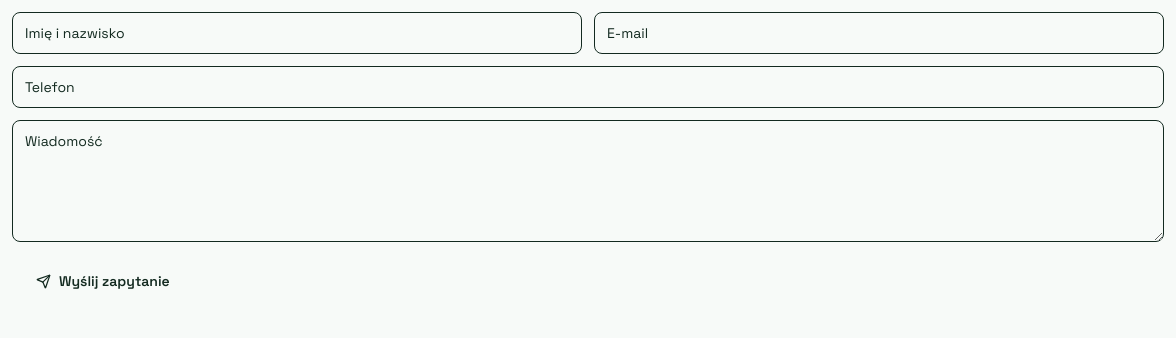
Test: błędy › komunikat z odpowiedzi API pokazuje się gościowi
In the field labelled "Imię i nazwisko": (297, 33) top-left (12, 12), bottom-right (582, 54), type "Anna Kowalska"
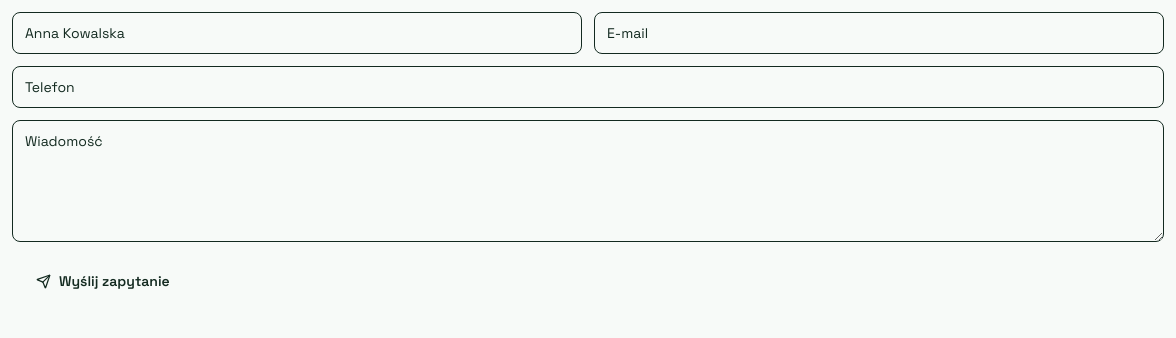
In the field labelled "E-mail": (879, 33) top-left (594, 12), bottom-right (1164, 54), type "anna@example.com"
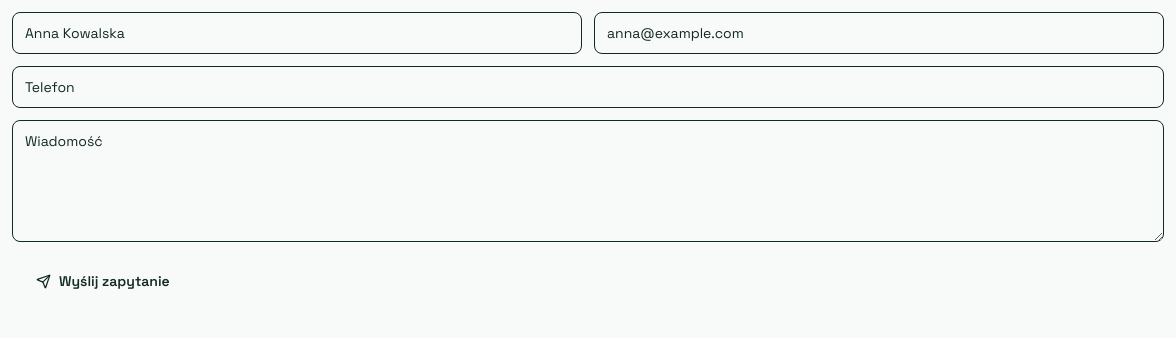
In the text box labelled "Wiadomość": (588, 181) top-left (12, 120), bottom-right (1164, 242), type "Czy jest wolny pokój w sierpniu?"
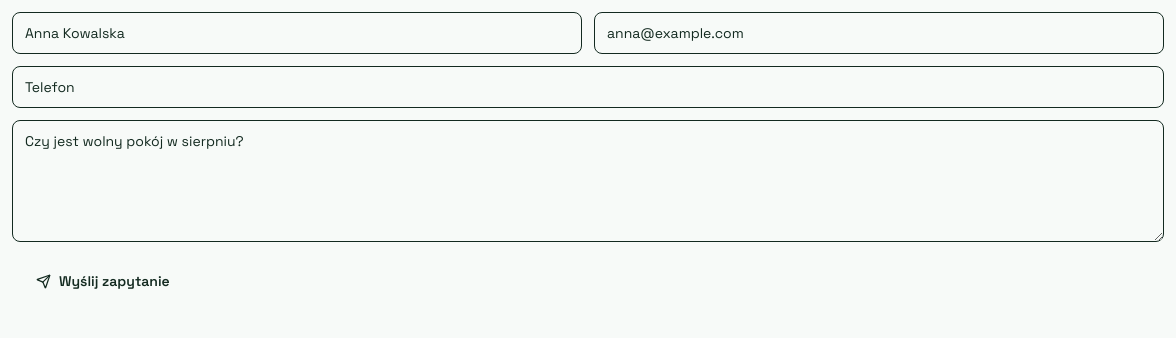
Click the button "Wyślij zapytanie": (103, 281) top-left (12, 261), bottom-right (194, 301)
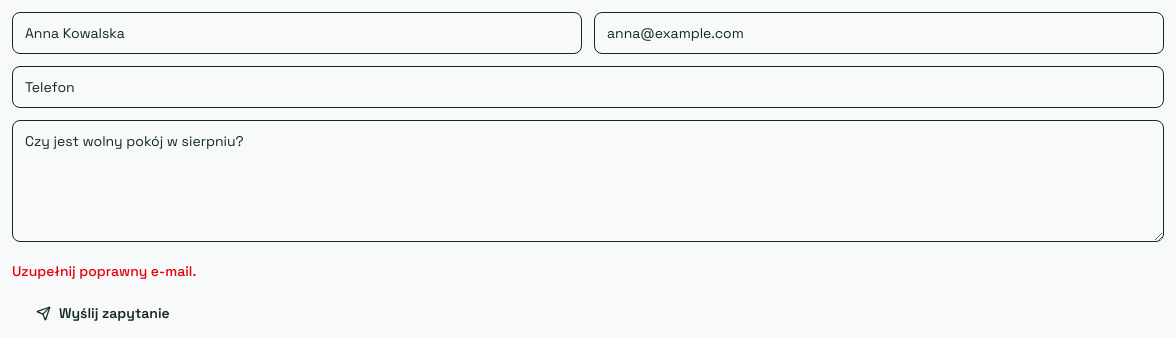
Check: the text "Uzupełnij poprawny e-mail." is shown, box top-left (12, 262), bottom-right (196, 280)
